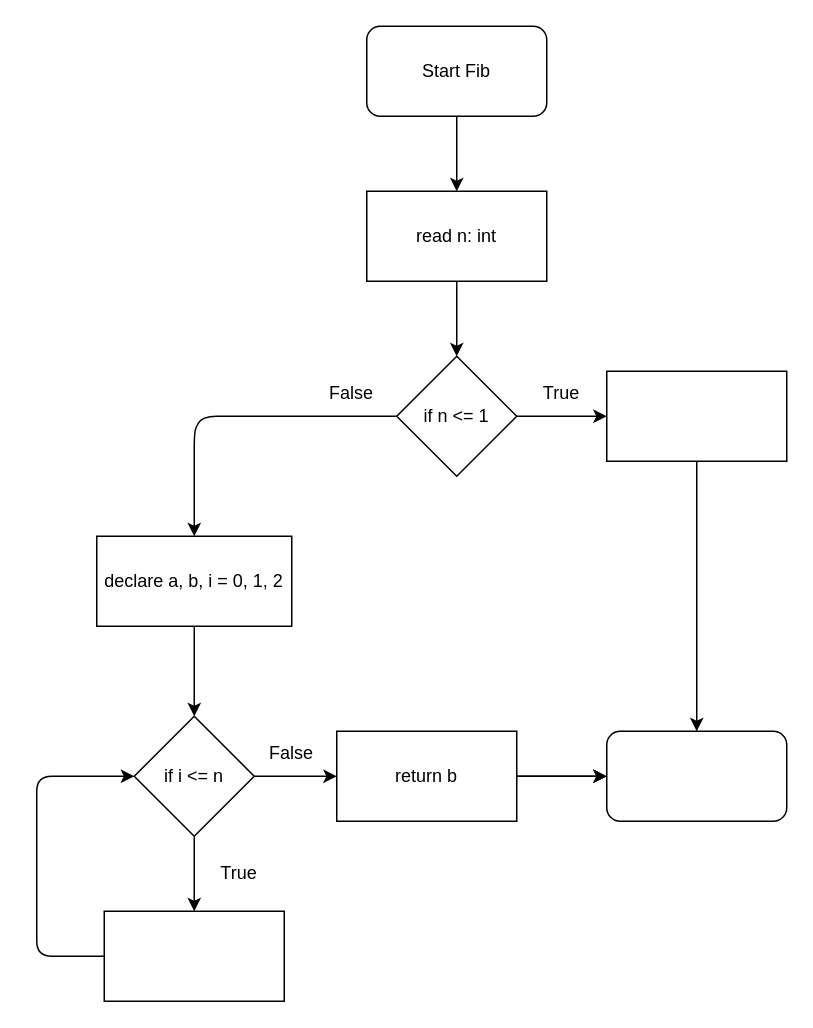
The diagram is 813 pixels wide and 1028 high, and some of its shapes have lost their labels. Here are the shapes that lost their labels. From the top down, the box of each, then its label:
(605, 370, 787, 461): return n
(605, 730, 787, 821): End
(103, 910, 284, 1001): a, b, i = b, a + b, i + 1
